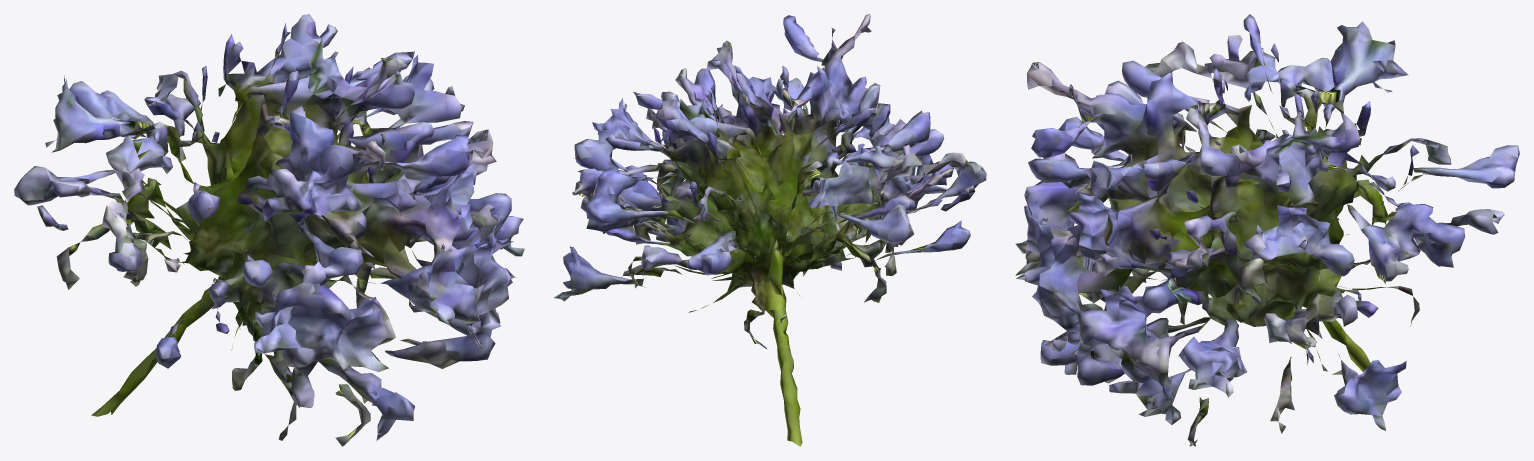
The picture shows the model from 3 angles, left to right: view 1: azimuth 30°, elevation 25°; view 2: azimuth 150°, elevation 25°; view 3: azimuth 270°, elevation 25°; orthographic projection. The views are drawn at different scales.
Visible parts, largest first — view 1: 7625bba6; view 2: 7625bba6; view 3: 7625bba6.
Part boxes in pixels (bbox=[...]): 7625bba6: bbox=[14, 14, 524, 446]; 7625bba6: bbox=[554, 14, 986, 446]; 7625bba6: bbox=[1015, 14, 1519, 446].
Size of the model in its own units: 0.1508 by 0.1213 by 0.1444.
Materials: 1 (1 with a texture image).
